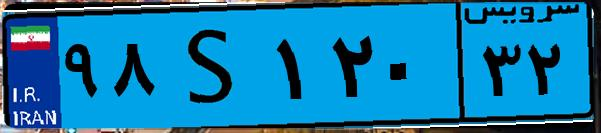0: (385, 28, 445, 110)
1: (270, 28, 330, 110)
2: (330, 28, 385, 110), (525, 38, 570, 115)
3: (475, 38, 525, 113)
8: (110, 28, 158, 98)
9: (57, 26, 110, 100)
S: (158, 12, 270, 120)
